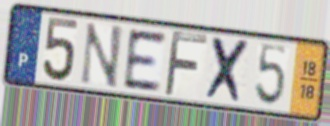5: (42, 15, 81, 84), (252, 41, 289, 108)
E: (122, 27, 168, 93)
F: (161, 27, 210, 99)
N: (78, 21, 125, 91)
X: (203, 34, 254, 108)
